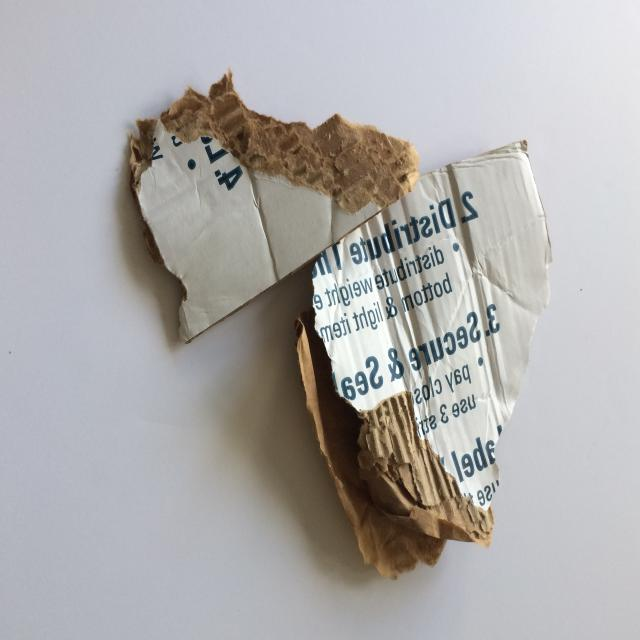cardboard: (294, 138, 553, 580), (128, 68, 421, 344)
